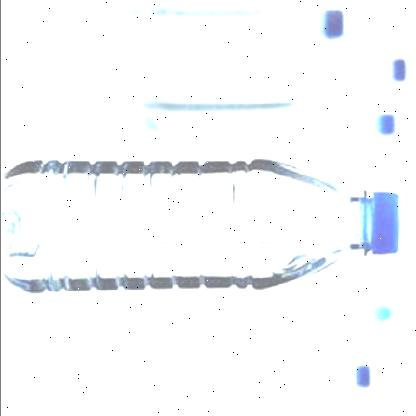Plastic Bottle: (0, 159, 399, 294), (137, 41, 389, 112), (132, 283, 393, 351), (124, 353, 372, 416), (139, 109, 397, 161), (120, 0, 344, 57)
